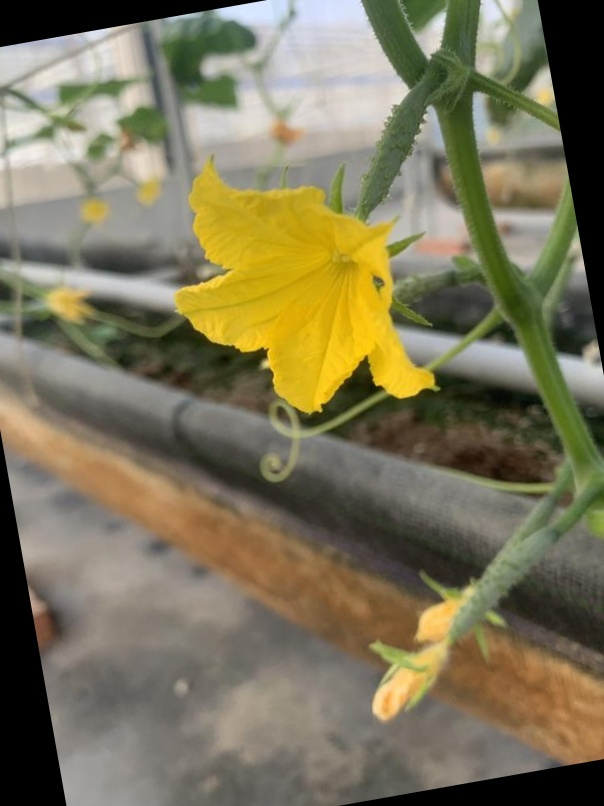bear: (345, 513, 563, 736)
flowering: (162, 68, 485, 432)
